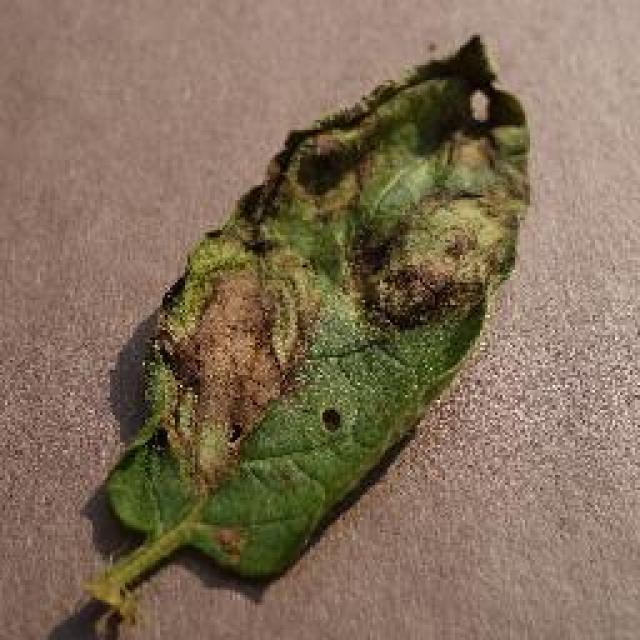late_blight: (77, 30, 535, 625)
